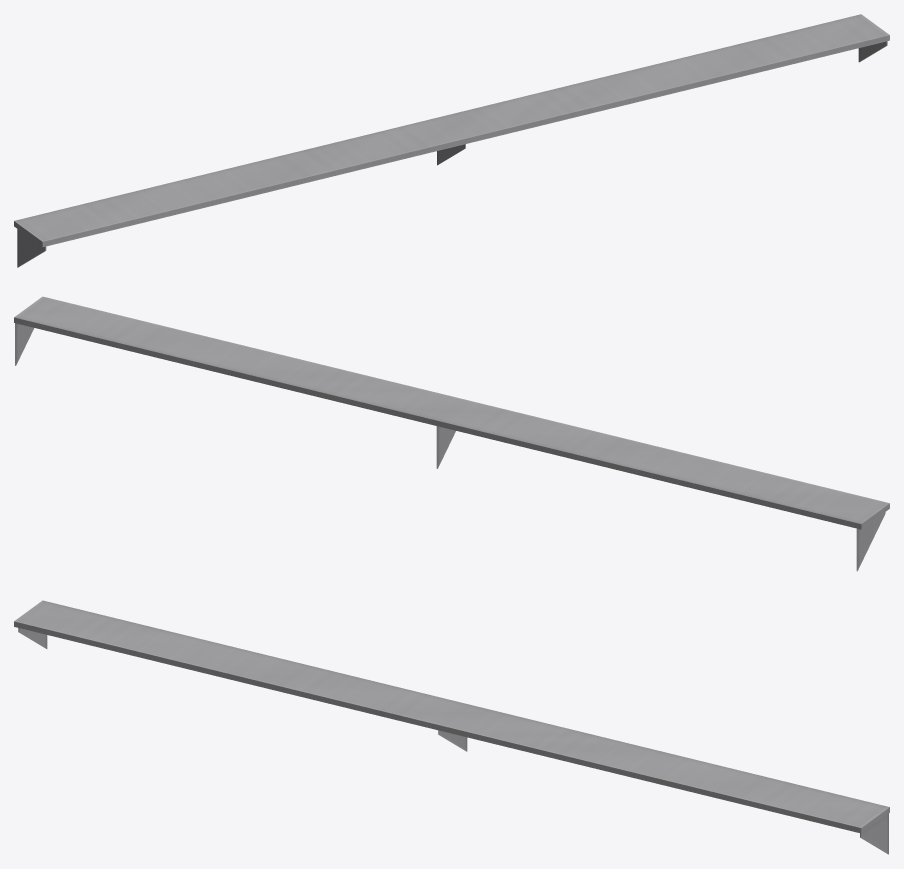
File: jsf_AdditionalTable_s04.fbx
The picture shows the model from 3 angles, top to bottom: view 1: azimuth 30°, elevation 25°; view 2: azimuth 150°, elevation 25°; view 3: azimuth 330°, elevation 25°; orthographic projection.
Visible parts, largest first — view 1: jsf_AdditionalTable_s04; view 2: jsf_AdditionalTable_s04; view 3: jsf_AdditionalTable_s04.
Boxes of the visible parts, box(x1,y1,x2,y2) form: jsf_AdditionalTable_s04: box(14, 14, 889, 267); jsf_AdditionalTable_s04: box(14, 296, 889, 571); jsf_AdditionalTable_s04: box(14, 600, 889, 854).
Bounding box in the file's own units: 341 × 18.46 × 20.2.
